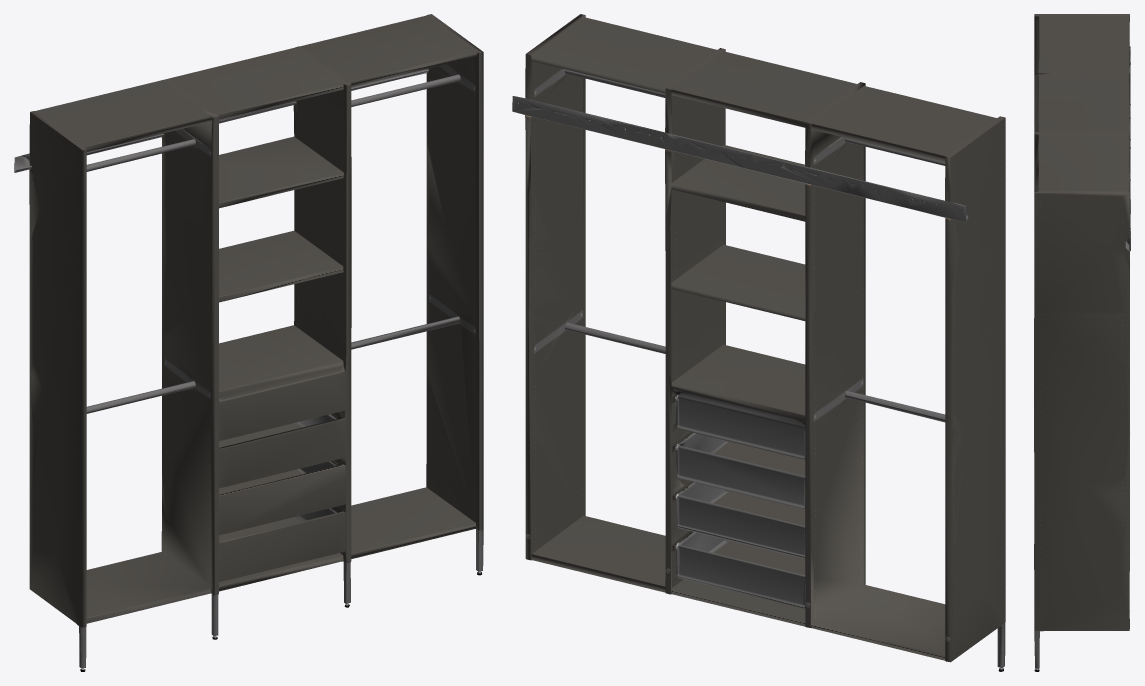
The model's file is aurdal_wardrobe_combination_dark_gray.glb.
3 views of the same model, side by side, from view 1: azimuth 30°, elevation 25°; view 2: azimuth 150°, elevation 25°; view 3: azimuth 270°, elevation 25° (orthographic). The views are drawn at different scales.
Parts seen in each view (by area): view 1: ProcessedMeshNode; view 2: ProcessedMeshNode; view 3: ProcessedMeshNode.
Boxes of the visible parts, bbox=[...] form: ProcessedMeshNode: bbox=[14, 14, 483, 671]; ProcessedMeshNode: bbox=[512, 14, 1005, 671]; ProcessedMeshNode: bbox=[1034, 14, 1130, 671].
Bounding box in the file's own units: 1.9 × 2.22 × 0.406.
Materials: 2 (2 with a texture image).
